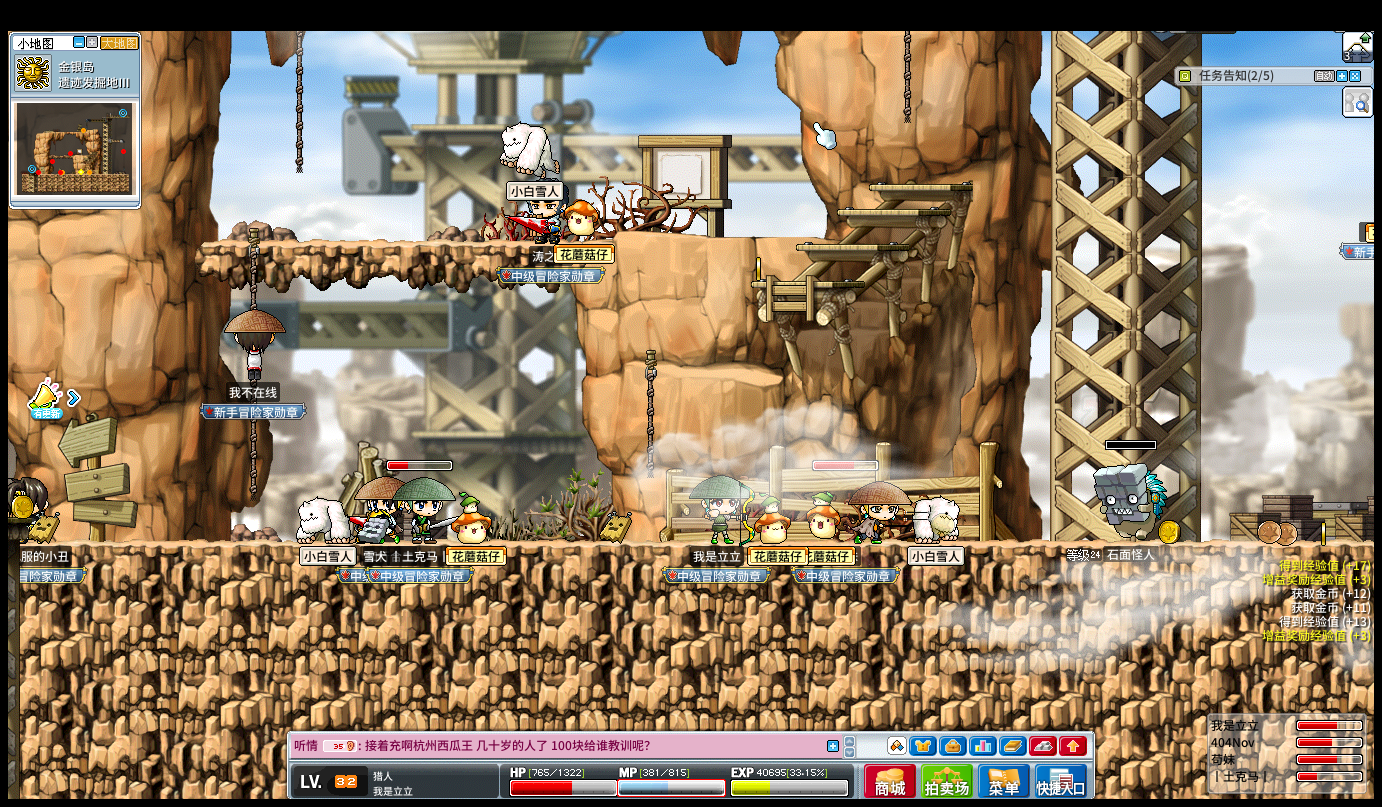floor: (193, 238, 568, 248), (674, 364, 785, 384), (750, 278, 865, 288), (700, 232, 836, 240), (832, 207, 948, 215), (866, 183, 971, 191), (793, 243, 907, 250)
monster: (1095, 463, 1167, 541)
rope: (643, 348, 655, 482), (294, 31, 303, 174), (246, 223, 258, 311), (248, 419, 257, 503), (250, 419, 259, 501), (902, 30, 910, 122)
